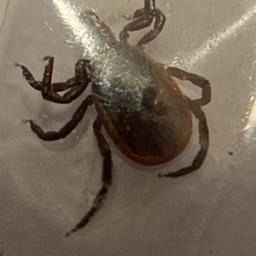Ixodes scapularis: (13, 0, 212, 238)
